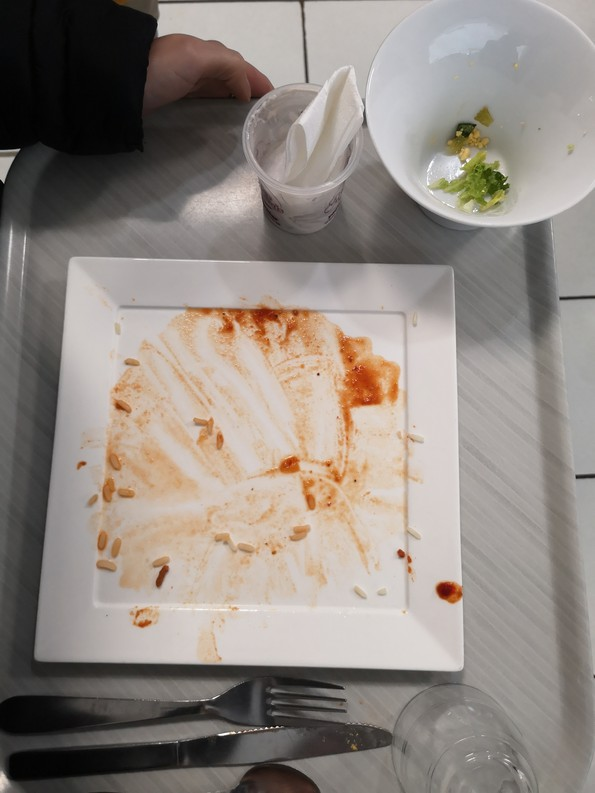cup: (385, 681, 546, 793)
cutlery: (1, 679, 399, 782)
orga: (427, 106, 522, 207)
trash: (238, 84, 371, 230)
